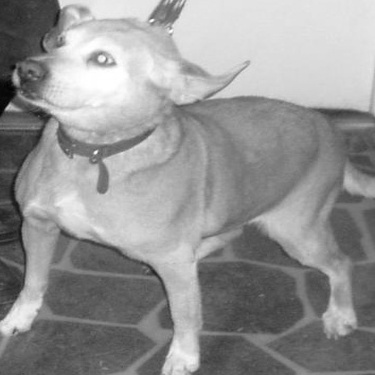dog: (3, 2, 372, 372)
